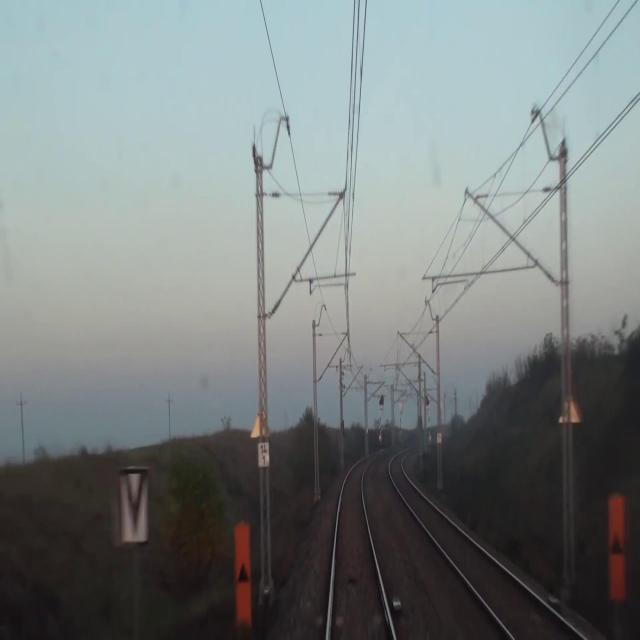rail-track: (392, 458, 577, 639), (331, 465, 392, 639)
